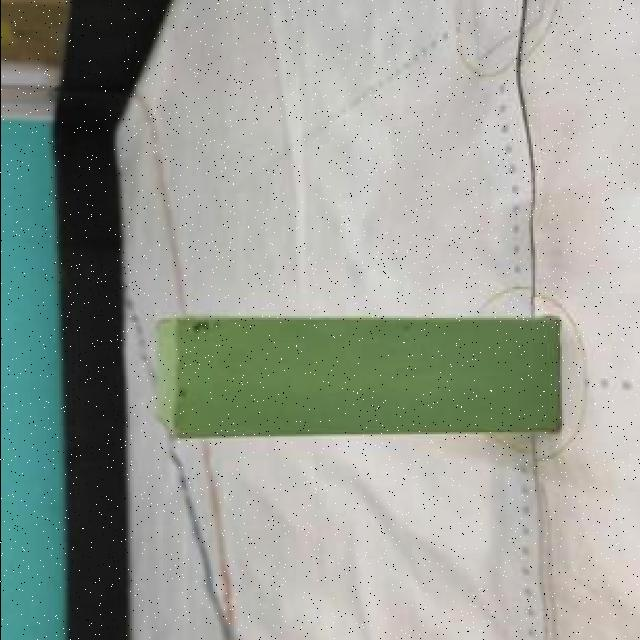greenbox: (158, 316, 559, 434)
